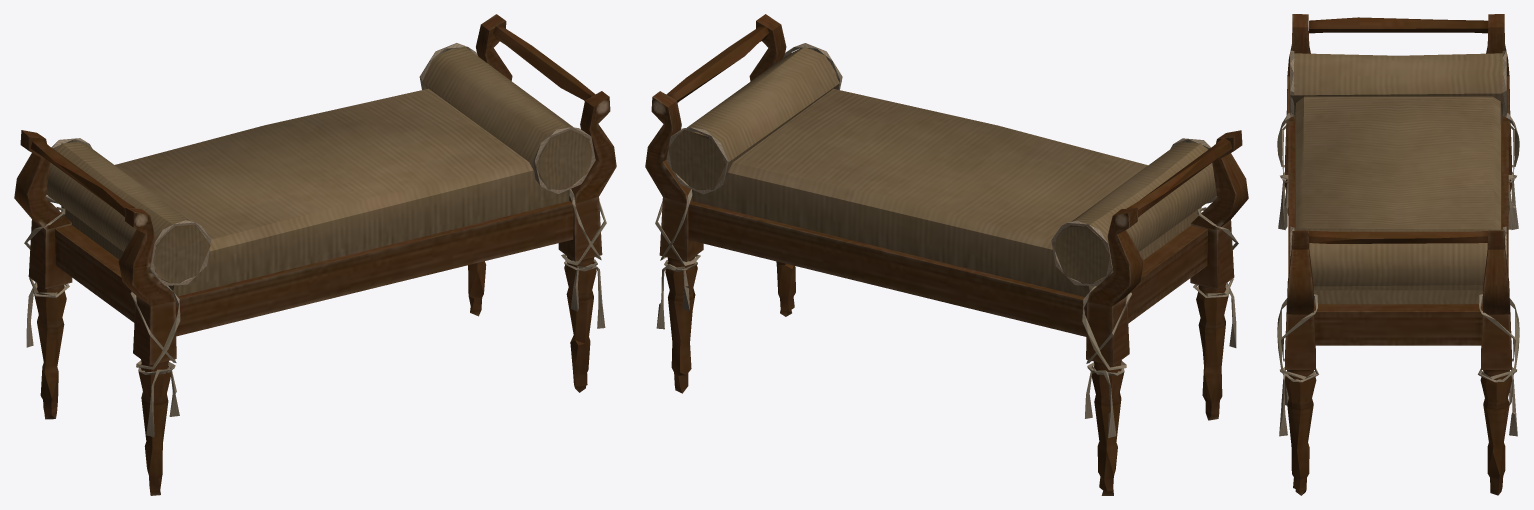
Rendered from bench-upholstered.lod1.glb.
The picture shows the model from 3 angles, left to right: view 1: azimuth 30°, elevation 25°; view 2: azimuth 150°, elevation 25°; view 3: azimuth 270°, elevation 25°; orthographic projection. The views are drawn at different scales.
Parts seen in each view (by area): view 1: bench-upholstered; view 2: bench-upholstered; view 3: bench-upholstered.
Boxes of the visible parts, x1,y1,x2,y2 form: bench-upholstered: (14, 14, 616, 495); bench-upholstered: (645, 14, 1248, 495); bench-upholstered: (1277, 14, 1519, 495).
Size of the model in its own units: 1.15 by 0.6558 by 0.5284.
Materials: 1 (1 with a texture image).
